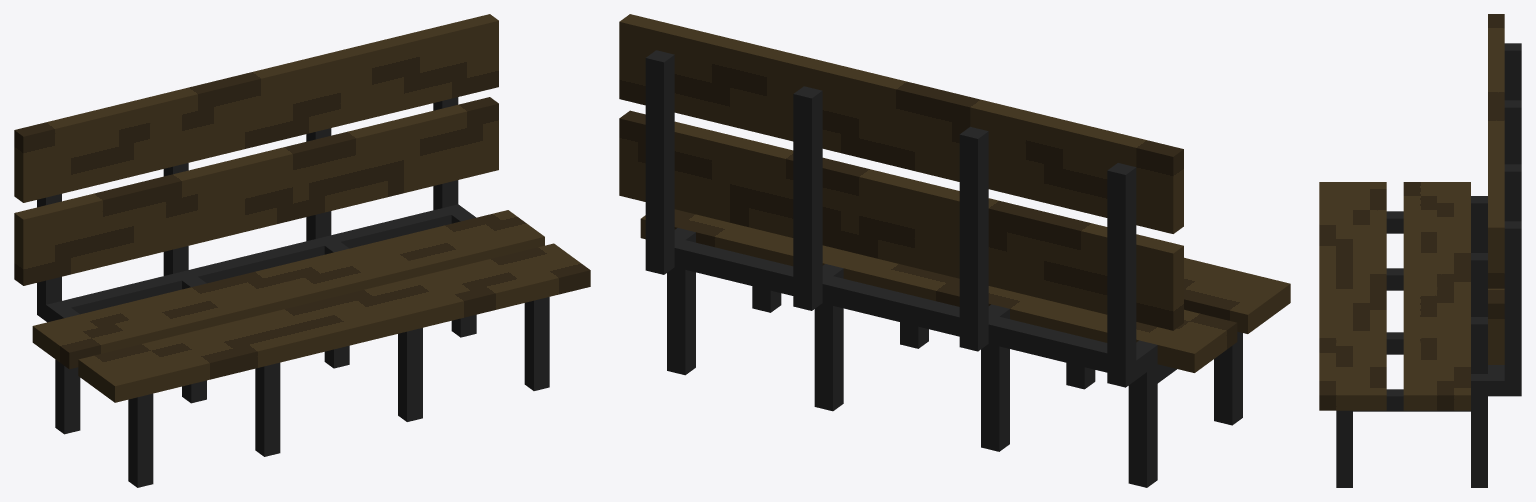
File: Banca.obj
3 views of the same model, side by side, from view 1: azimuth 30°, elevation 25°; view 2: azimuth 150°, elevation 25°; view 3: azimuth 270°, elevation 25° (orthographic). The views are drawn at different scales.
Visible parts, largest first — view 1: Content; view 2: Content; view 3: Content.
Boxes of the visible parts, x1=… form: Content: x1=14, y1=14, x2=590, y2=487; Content: x1=619, y1=14, x2=1290, y2=487; Content: x1=1319, y1=14, x2=1521, y2=487.
Bounding box in the file's own units: 2.16 × 1.3 × 0.864.
